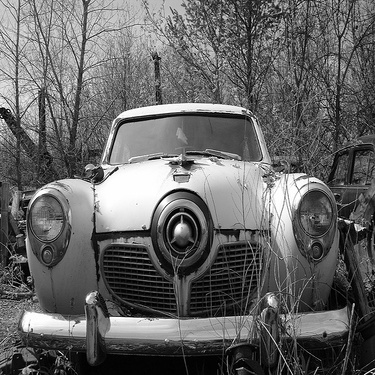car: (12, 88, 369, 370), (330, 133, 372, 242)
